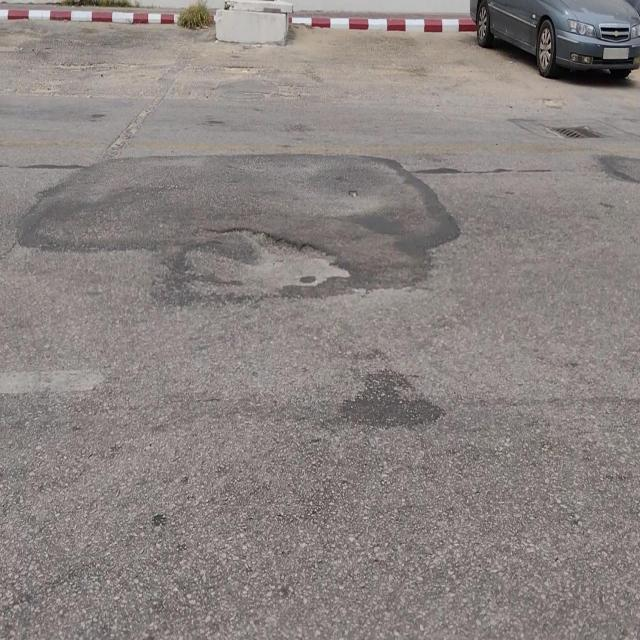Pothole: (184, 222, 354, 303)
